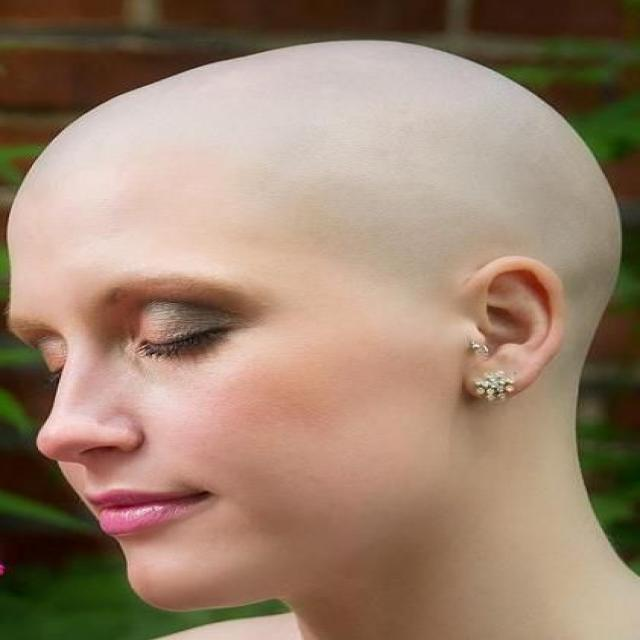no_helmet: (0, 24, 640, 352)
